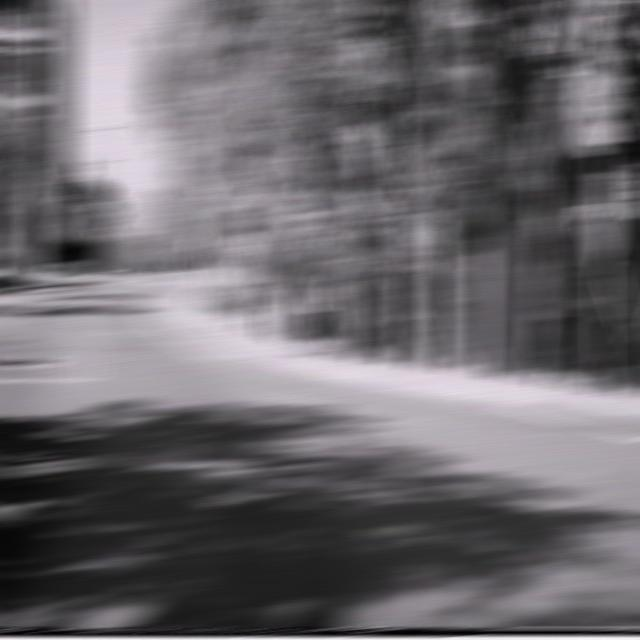pedestrianCrossing: (227, 231, 257, 266)
